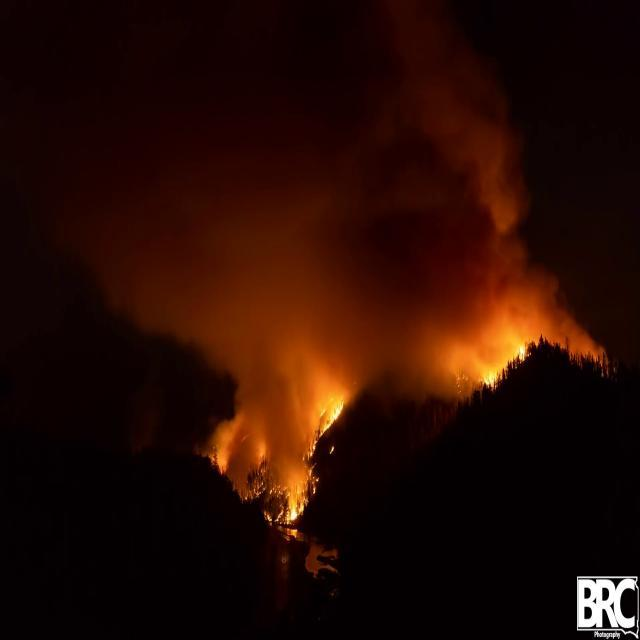Fire: (261, 482, 311, 526), (308, 398, 344, 456), (479, 364, 501, 392), (512, 341, 527, 362)
